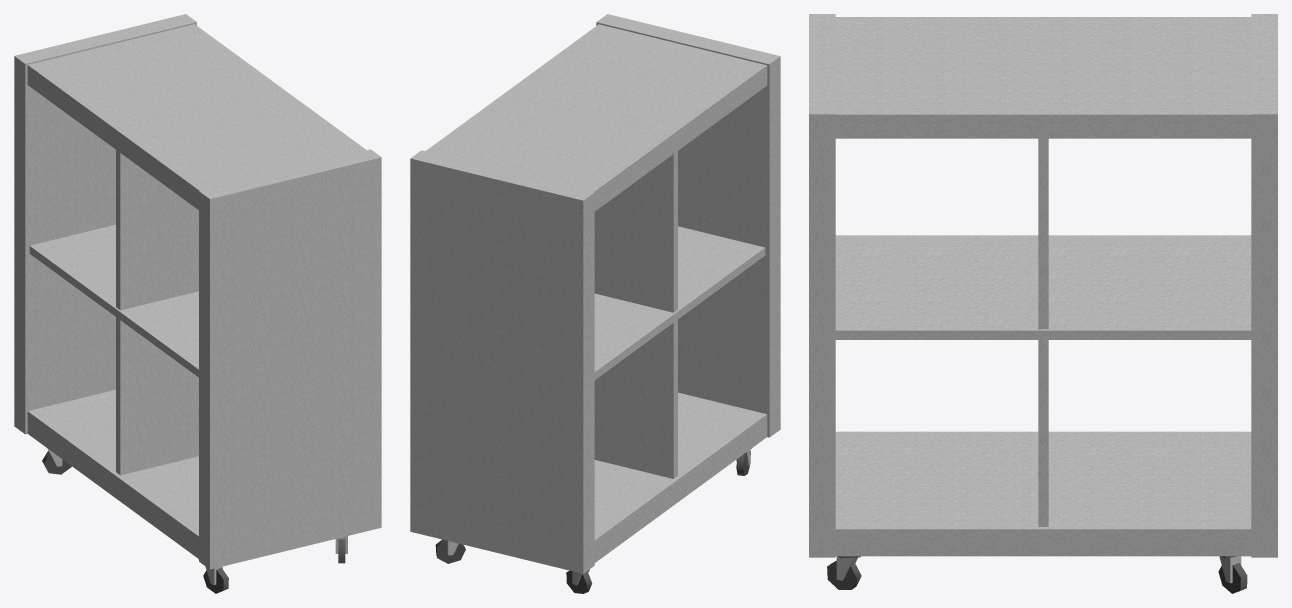
File: Cabinets_Books_Low.fbx
3 views of the same model, side by side, from view 1: azimuth 30°, elevation 25°; view 2: azimuth 150°, elevation 25°; view 3: azimuth 270°, elevation 25° (orthographic). The views are drawn at different scales.
Visible parts, largest first — view 1: Cabinets_Books_Low; view 2: Cabinets_Books_Low; view 3: Cabinets_Books_Low.
Boxes of the visible parts, box(x1,y1,x2,y2) form: Cabinets_Books_Low: box(14, 14, 381, 593); Cabinets_Books_Low: box(410, 14, 780, 593); Cabinets_Books_Low: box(809, 14, 1277, 593).
Bounding box in the file's own units: 46.28 × 105 × 91.34.
